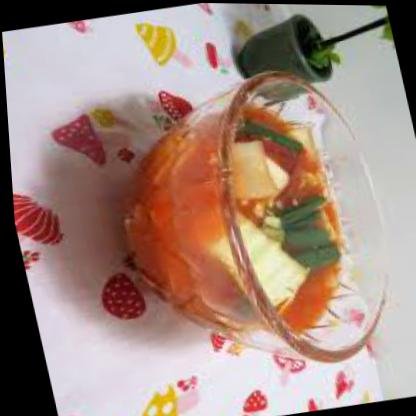nabak Kimchi: (106, 86, 374, 353)
